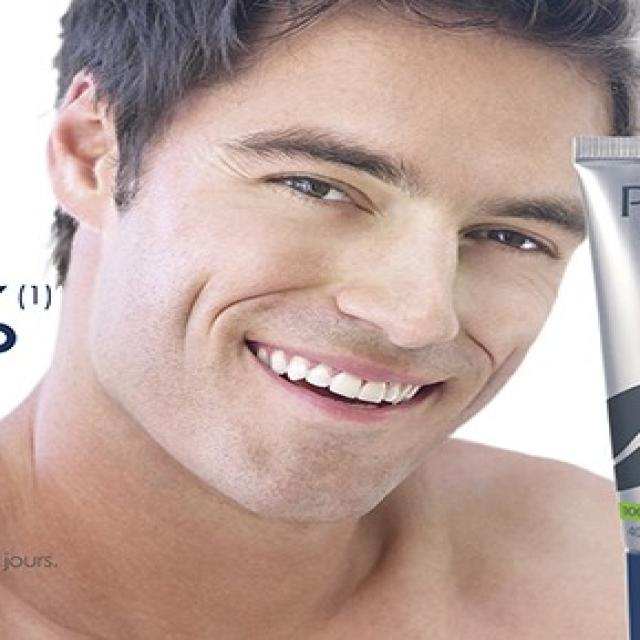mobile_phonerotation: (567, 133, 638, 638)
